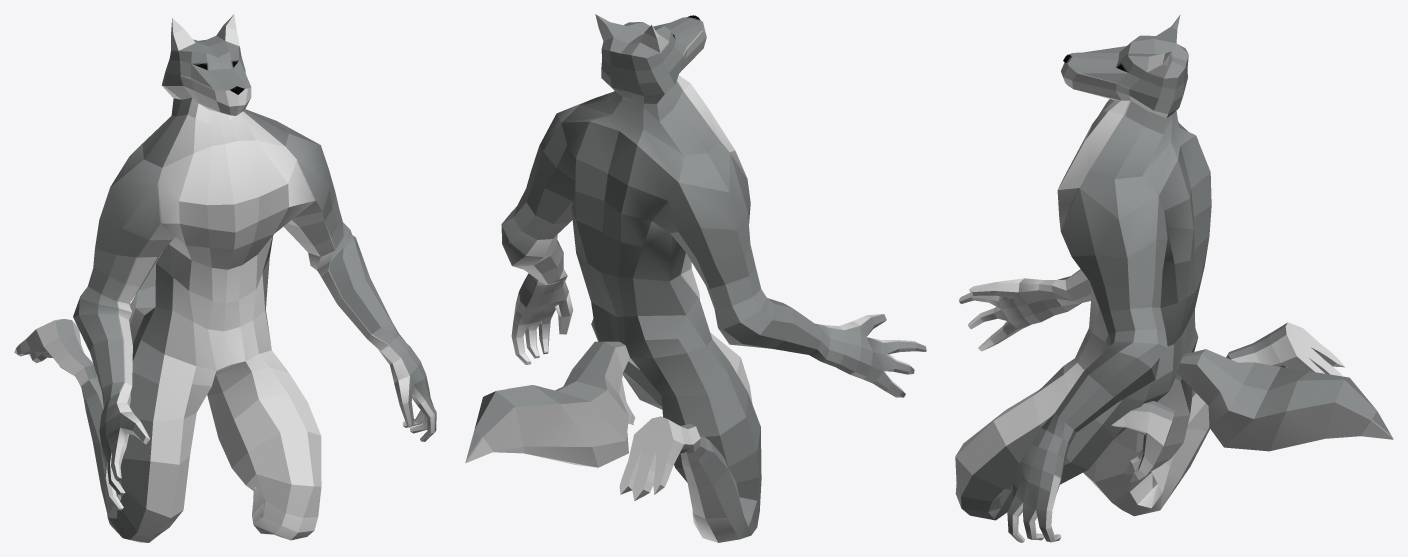
File: WolfDead(33).obj
3 views of the same model, side by side, from view 1: azimuth 30°, elevation 25°; view 2: azimuth 150°, elevation 25°; view 3: azimuth 270°, elevation 25° (orthographic). The views are drawn at different scales.
Visible parts, largest first — view 1: Box001; view 2: Box001; view 3: Box001.
Boxes of the visible parts, box(x1,y1,x2,y2) form: Box001: box(14, 14, 436, 542); Box001: box(465, 14, 926, 542); Box001: box(955, 14, 1393, 542).
Size of the model in its own units: 89.85 by 119 by 90.26.
